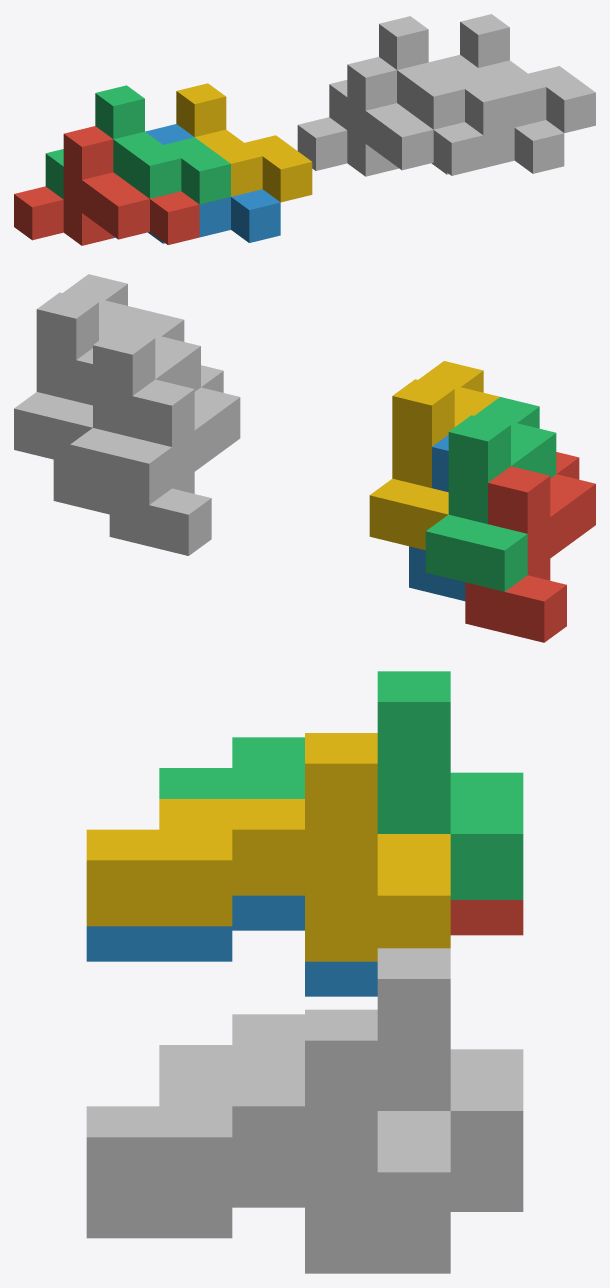
Rendered from tiling.obj.
The picture shows the model from 3 angles, top to bottom: view 1: azimuth 30°, elevation 25°; view 2: azimuth 150°, elevation 25°; view 3: azimuth 270°, elevation 25°; orthographic projection. The views are drawn at different scales.
Visible parts, largest first — view 1: copy_1_domain_1, copy_1_domain_5, copy_1_domain_7, copy_1_domain_3, copy_1_domain_4, copy_1_domain_8, copy_1_domain_2, copy_1_domain_6; view 2: copy_1_domain_3, copy_1_domain_7, copy_1_domain_5, copy_1_domain_1, copy_1_domain_8, copy_1_domain_4, copy_1_domain_6, copy_1_domain_2; view 3: copy_1_domain_8, copy_1_domain_4, copy_1_domain_7, copy_1_domain_3, copy_1_domain_6, copy_1_domain_2, copy_1_domain_1, copy_1_domain_5.
Boxes of the visible parts, x1=… form: copy_1_domain_1: x1=14, y1=126, x2=199, y2=245; copy_1_domain_5: x1=297, y1=57, x2=483, y2=176; copy_1_domain_7: x1=329, y1=16, x2=514, y2=135; copy_1_domain_3: x1=45, y1=85, x2=230, y2=204; copy_1_domain_4: x1=176, y1=83, x2=312, y2=202; copy_1_domain_8: x1=460, y1=14, x2=595, y2=133; copy_1_domain_2: x1=113, y1=124, x2=280, y2=243; copy_1_domain_6: x1=397, y1=55, x2=564, y2=174; copy_1_domain_3: x1=425, y1=397, x2=556, y2=591; copy_1_domain_7: x1=70, y1=310, x2=200, y2=504; copy_1_domain_5: x1=109, y1=365, x2=240, y2=555; copy_1_domain_1: x1=465, y1=452, x2=595, y2=642; copy_1_domain_8: x1=14, y1=274, x2=144, y2=463; copy_1_domain_4: x1=369, y1=361, x2=499, y2=550; copy_1_domain_6: x1=53, y1=348, x2=109, y2=514; copy_1_domain_2: x1=409, y1=435, x2=465, y2=601; copy_1_domain_8: x1=86, y1=1009, x2=450, y2=1238; copy_1_domain_4: x1=86, y1=733, x2=450, y2=961; copy_1_domain_7: x1=159, y1=948, x2=523, y2=1176; copy_1_domain_3: x1=159, y1=671, x2=523, y2=899; copy_1_domain_6: x1=86, y1=1172, x2=450, y2=1273; copy_1_domain_2: x1=86, y1=895, x2=377, y2=996; copy_1_domain_1: x1=450, y1=900, x2=523, y2=935; copy_1_domain_5: x1=450, y1=1177, x2=523, y2=1211.
Bounding box in the file's own units: 15 × 4 × 6.
